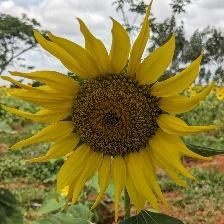sunflower: (40, 32, 205, 204)
